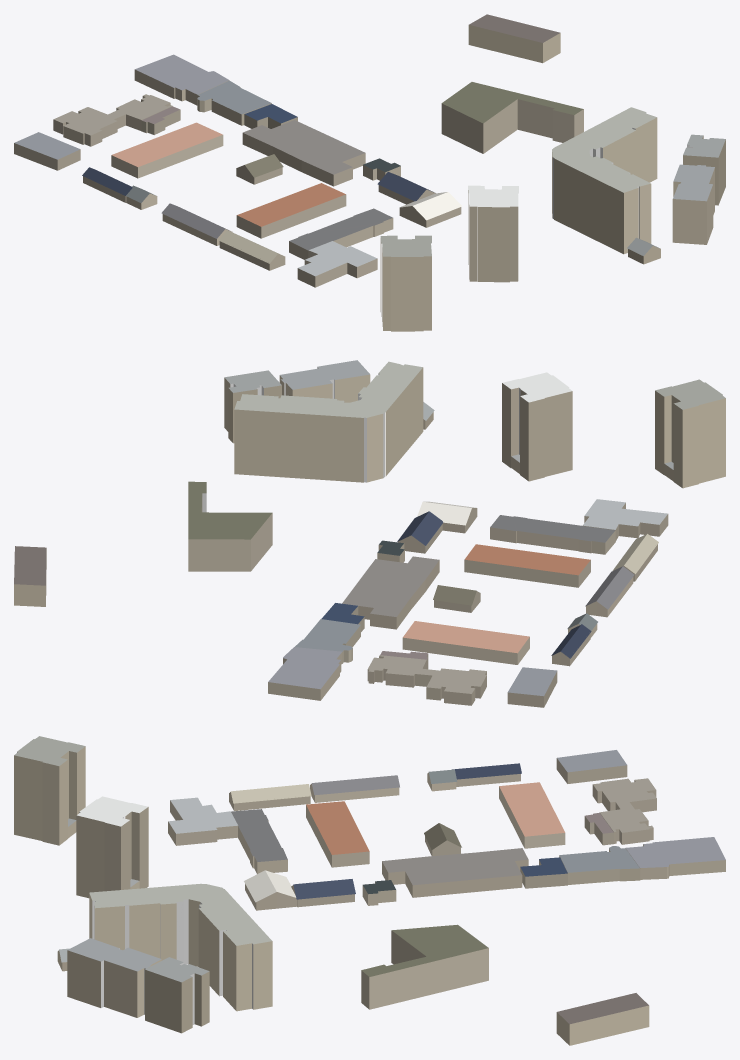
3 views of the same model, one above another, from view 1: azimuth 30°, elevation 25°; view 2: azimuth 150°, elevation 25°; view 3: azimuth 270°, elevation 25° (orthographic). The views are drawn at different scales.
Parts seen in each view (by area): view 1: tuile; view 2: tuile; view 3: tuile.
Part boxes in pixels (x1,y1,x2,y2): tuile: (14, 14, 725, 331); tuile: (14, 360, 725, 707); tuile: (14, 736, 725, 1045).
Size of the model in its own units: 244 by 37.01 by 269.
